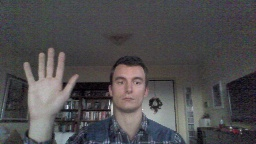Mano_aperta: (21, 46, 80, 123)
